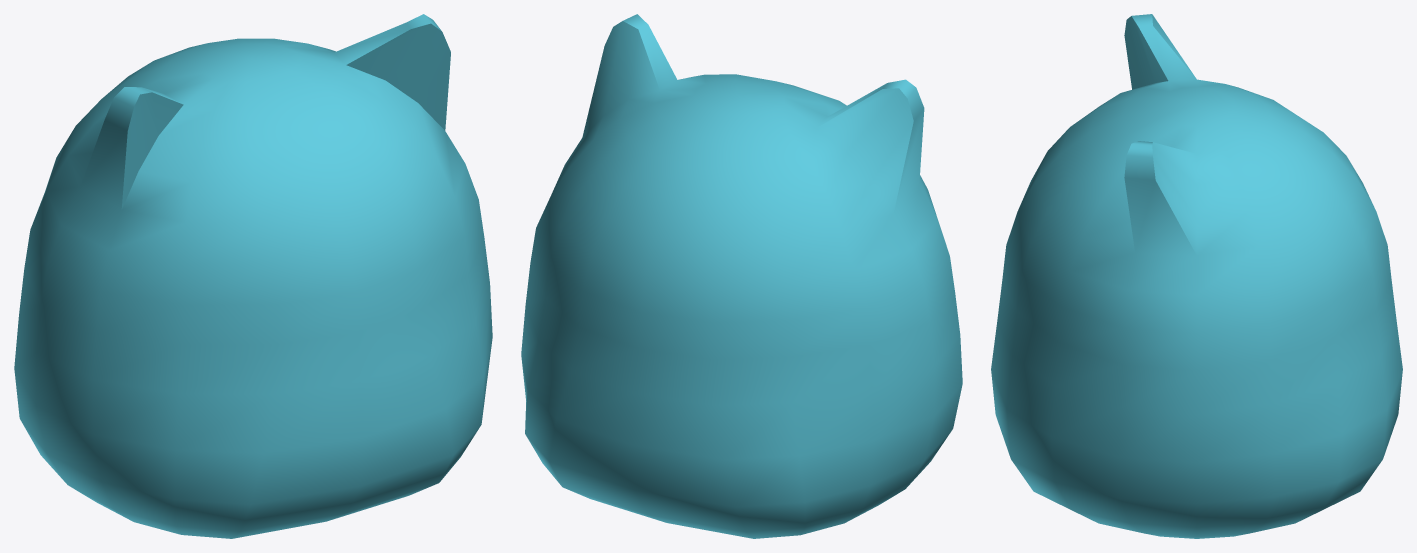
The model's file is juguete02.fbx.
The picture shows the model from 3 angles, left to right: view 1: azimuth 30°, elevation 25°; view 2: azimuth 150°, elevation 25°; view 3: azimuth 270°, elevation 25°; orthographic projection. The views are drawn at different scales.
Visible parts, largest first — view 1: almohadaGato; view 2: almohadaGato; view 3: almohadaGato.
Part boxes in pixels (left/top/right/bottom): almohadaGato: left=14, top=14, right=492, bottom=538; almohadaGato: left=521, top=14, right=962, bottom=538; almohadaGato: left=991, top=14, right=1402, bottom=538.
Bounding box in the file's own units: 0.6326 × 0.661 × 0.588.
